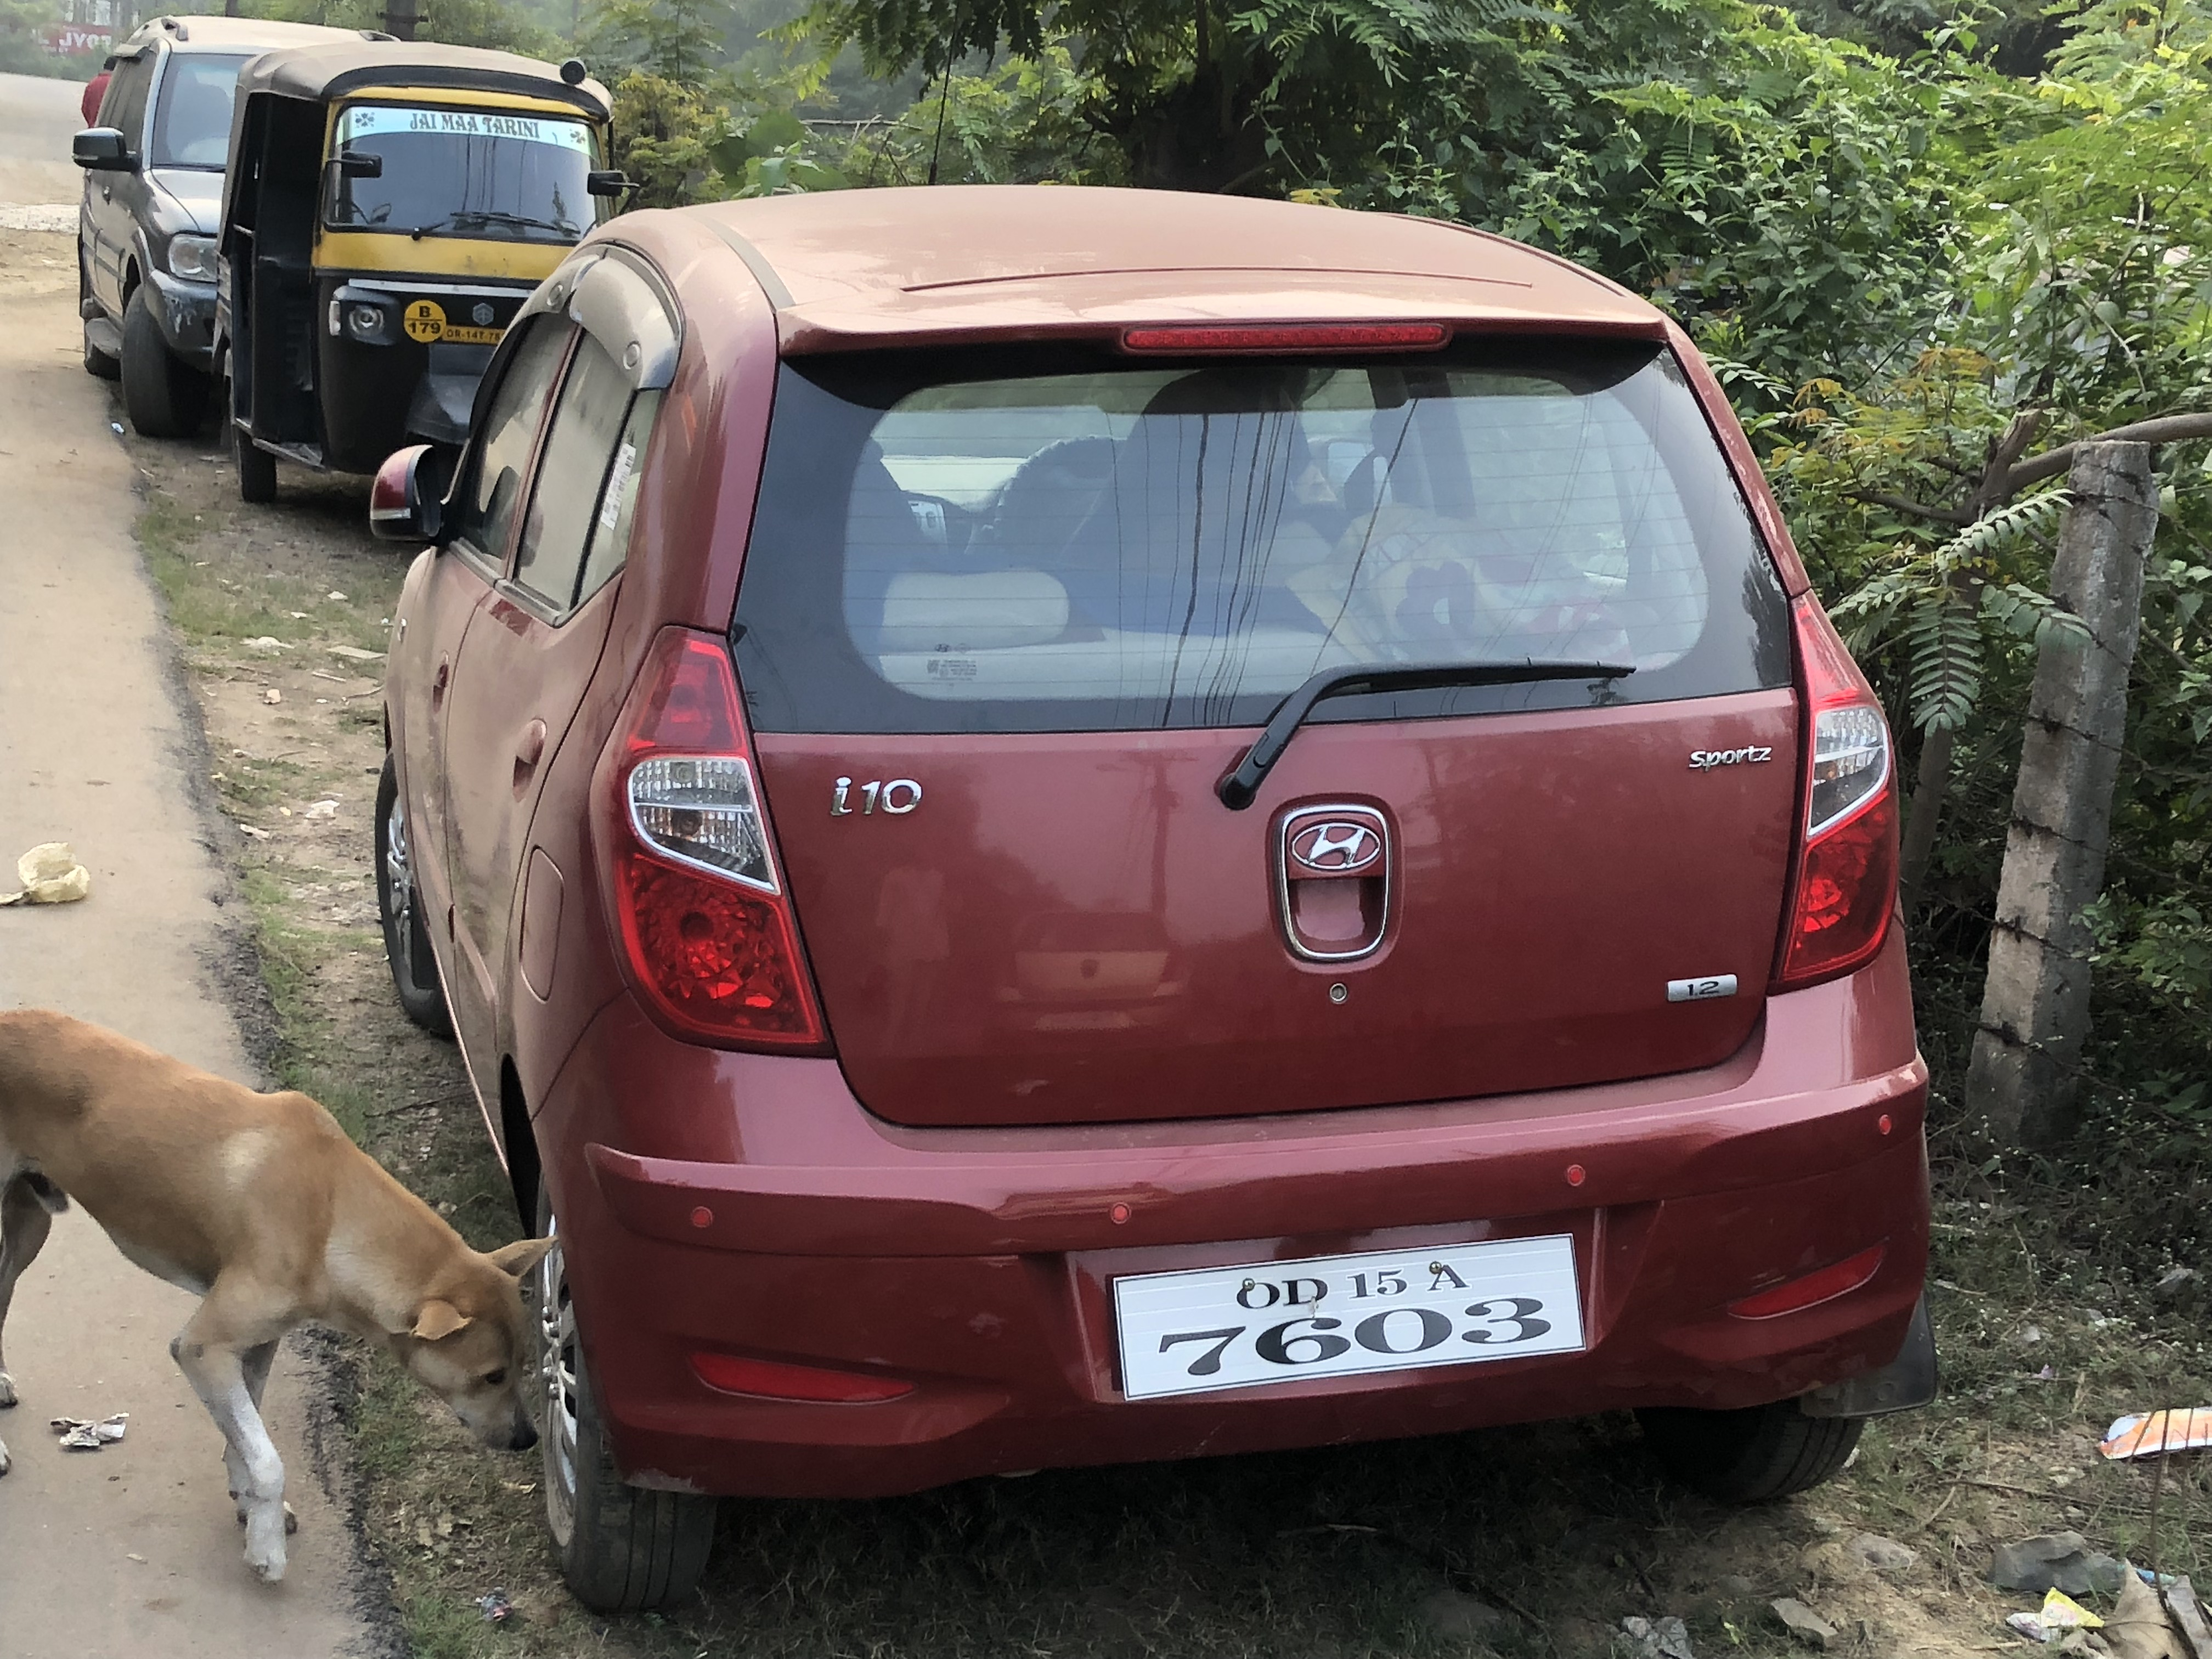licenseplate: (1094, 1228, 1603, 1406)
